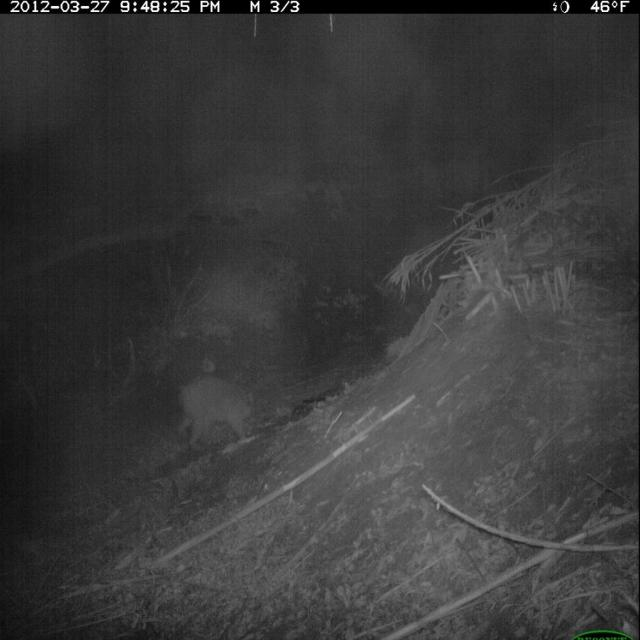raccoon: (172, 364, 264, 458)
